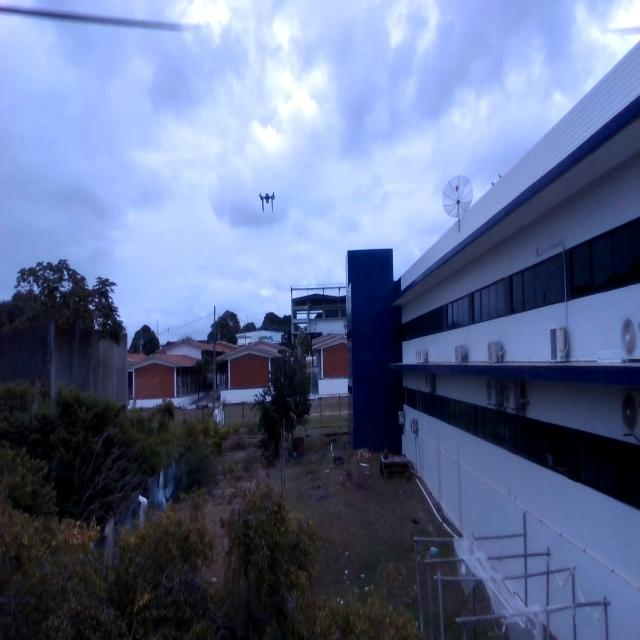-uav-: (255, 182, 282, 219)
